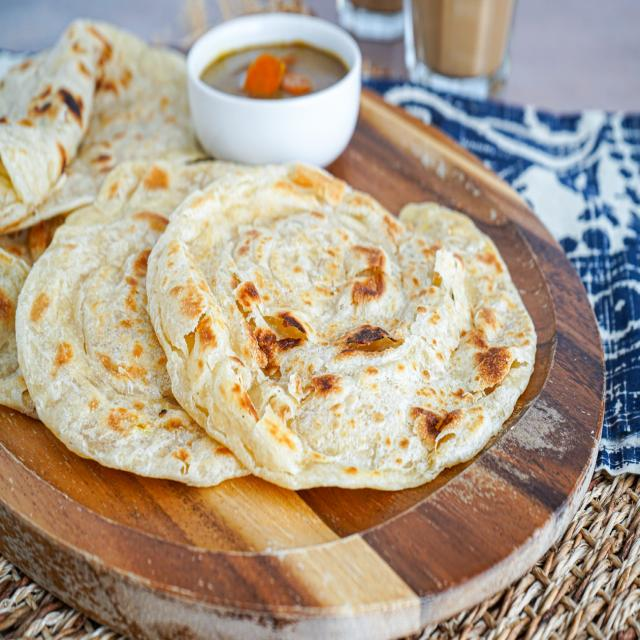Paratha: (19, 137, 532, 546)
